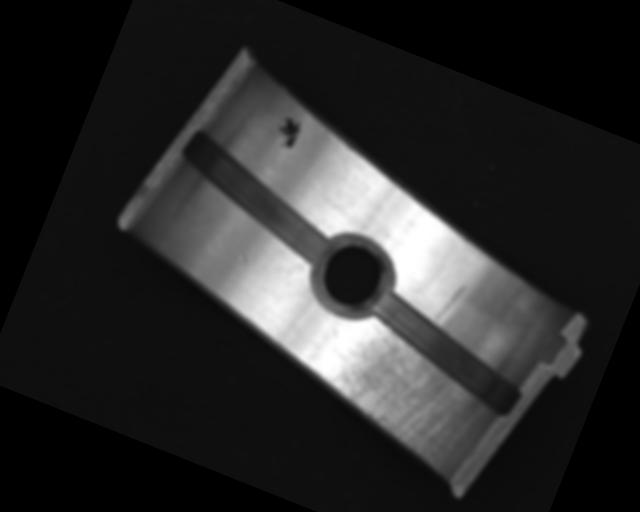blot: (268, 107, 306, 152)
bruise: (235, 252, 251, 265)
gap: (161, 125, 356, 270), (353, 286, 539, 420)
hole: (300, 227, 403, 328)
nick: (432, 278, 469, 331), (278, 277, 315, 311)
scratch: (304, 311, 498, 481)
